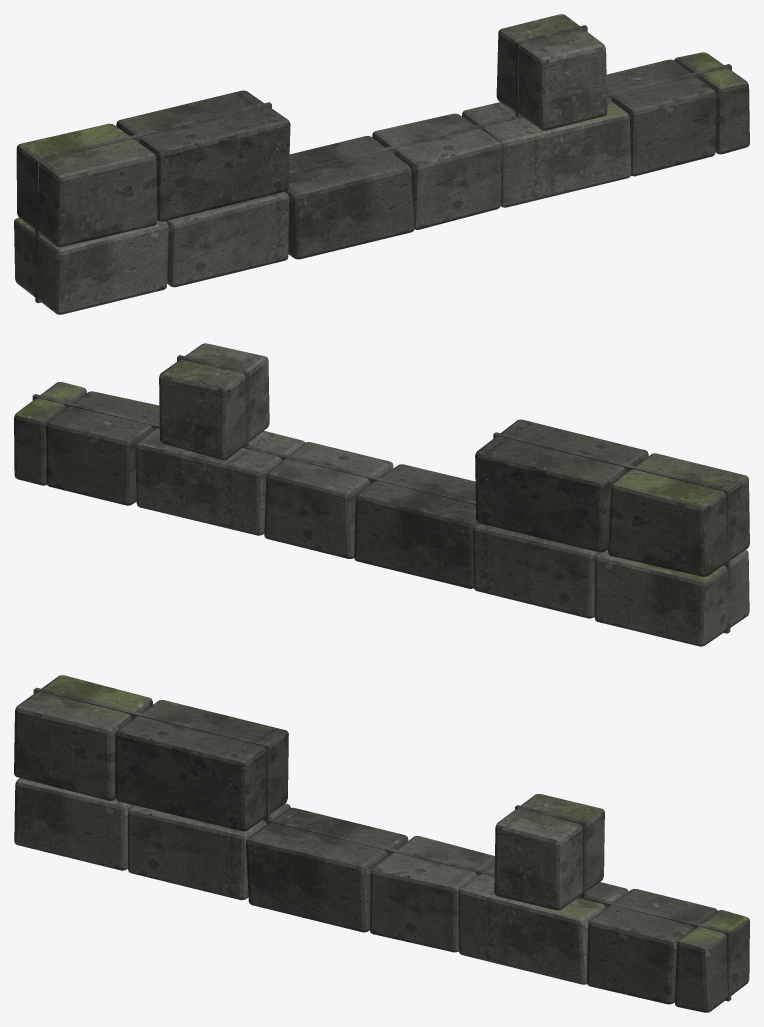
The model's file is ER_Mur_Ruine_Bas_6m.gltf.
3 renders of one model, top to bottom at view 1: azimuth 30°, elevation 25°; view 2: azimuth 150°, elevation 25°; view 3: azimuth 330°, elevation 25°, orthographic.
Visible parts, largest first — view 1: ER_Mur_Ruine_Bas_6m_P.001, ER_Mur_Ruine_Bas_6m_PS.001; view 2: ER_Mur_Ruine_Bas_6m_P.001, ER_Mur_Ruine_Bas_6m_PS.001; view 3: ER_Mur_Ruine_Bas_6m_P.001, ER_Mur_Ruine_Bas_6m_PS.001.
Boxes of the visible parts, x1=… form: ER_Mur_Ruine_Bas_6m_P.001: x1=14, y1=14, x2=749, y2=314; ER_Mur_Ruine_Bas_6m_PS.001: x1=35, y1=25, x2=731, y2=303; ER_Mur_Ruine_Bas_6m_P.001: x1=14, y1=343, x2=749, y2=646; ER_Mur_Ruine_Bas_6m_PS.001: x1=32, y1=355, x2=730, y2=633; ER_Mur_Ruine_Bas_6m_P.001: x1=14, y1=675, x2=749, y2=1012; ER_Mur_Ruine_Bas_6m_PS.001: x1=33, y1=687, x2=731, y2=1001.
Bounding box in the file's own units: 6 × 1.17 × 0.7363.
2 materials, 2 textured.
